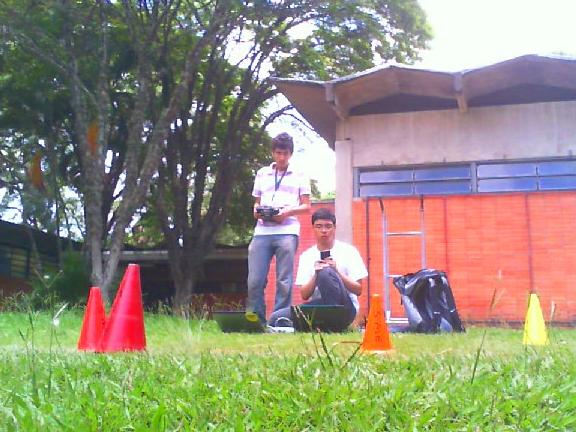0 cone: (97, 264, 145, 353), (77, 287, 107, 351), (362, 294, 394, 354), (523, 294, 549, 347)
